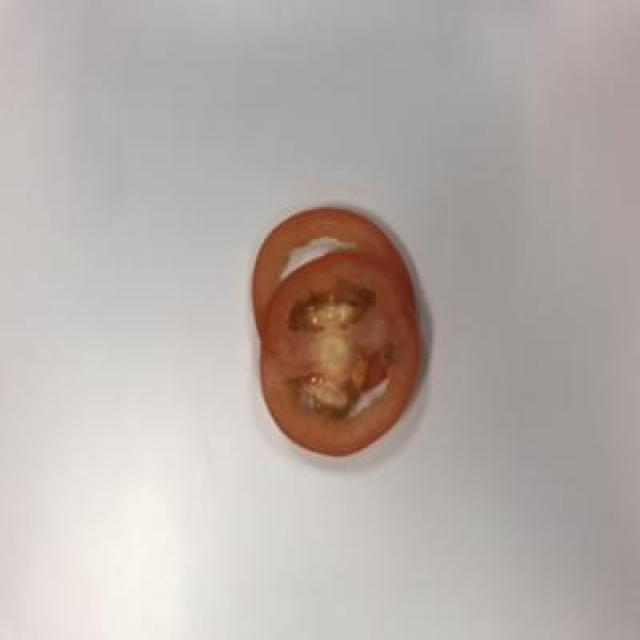compost: (211, 147, 460, 490)
